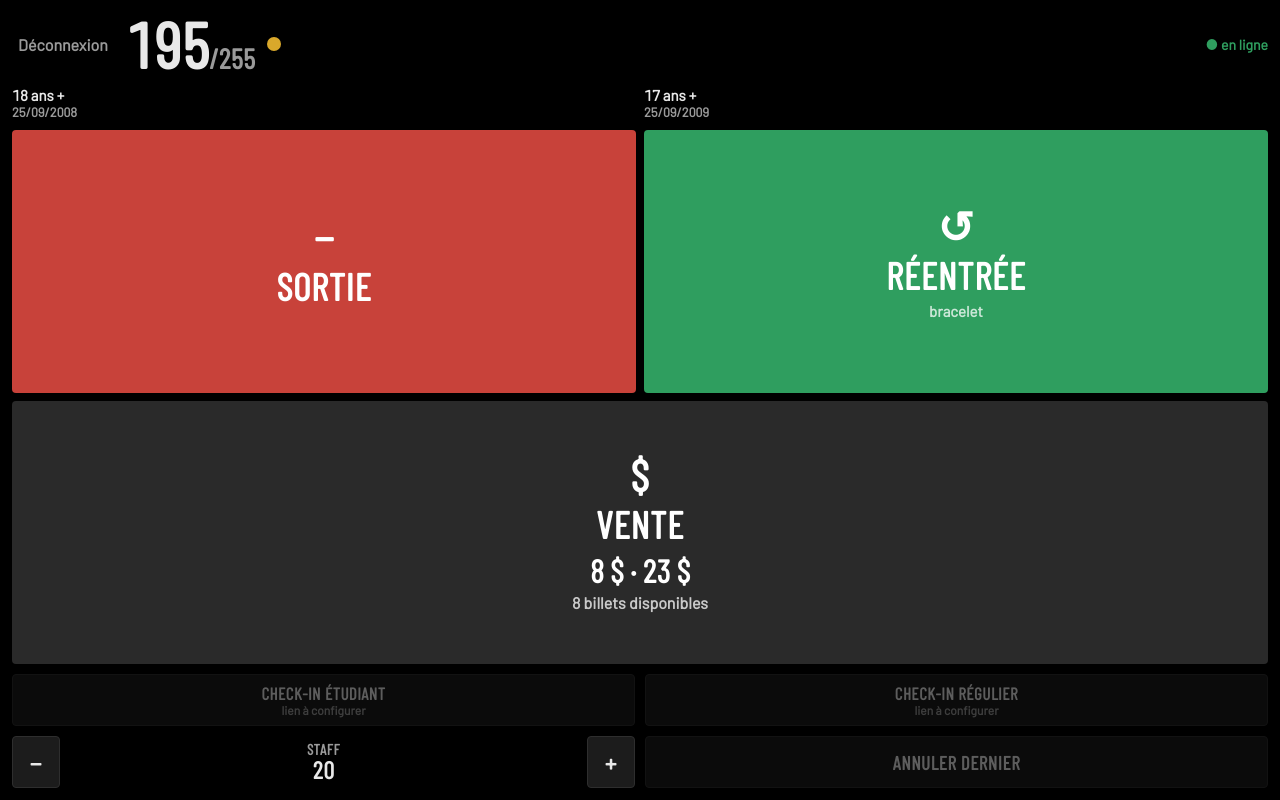
Test case: Écran Porte (scénario 23:00, 195 personnes, prix automatiques 8 $ / 23 $) › Bouncer : bouton Déconnexion avec confirmation (pas de lien Tableau)
The width and height of the screenshot is (1280, 800).
Click the button "Déconnexion".
click(63, 44)  # box [12,34,114,54]
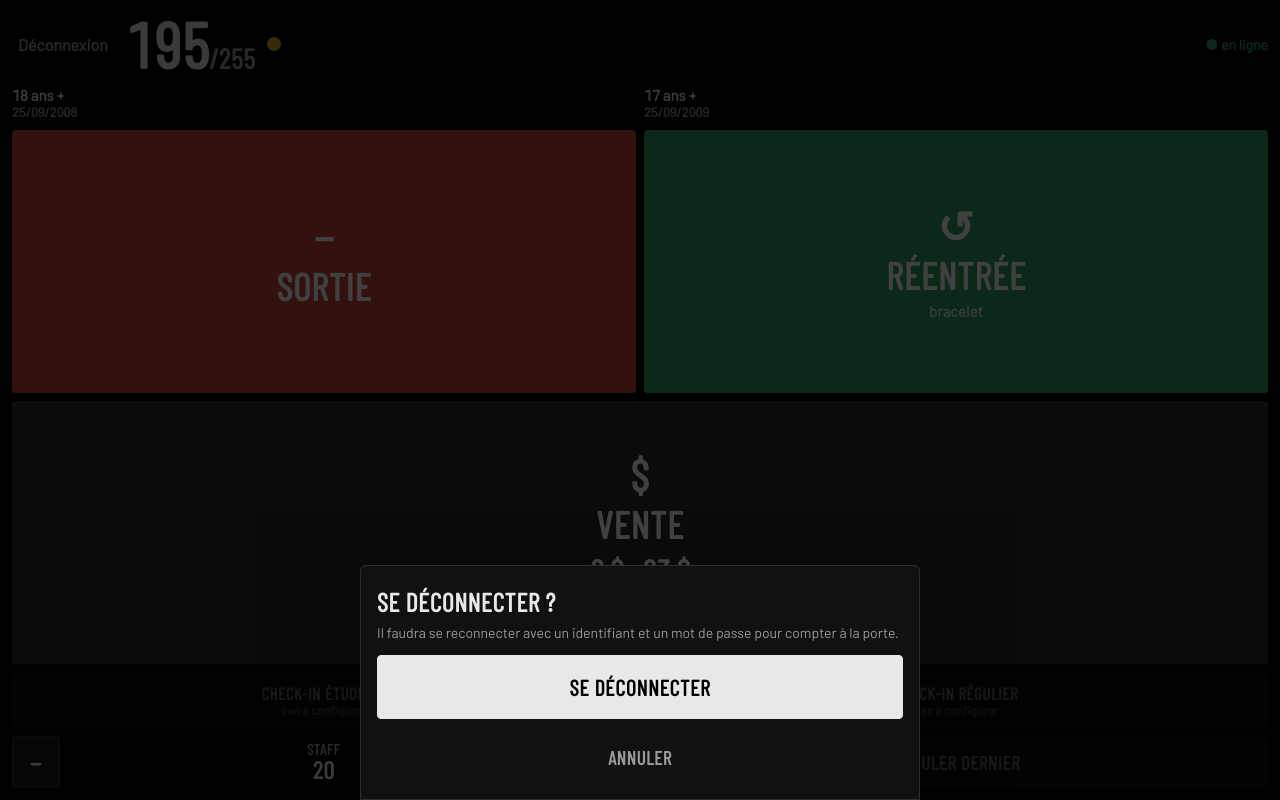
Result: the dialog "Se déconnecter ?" is shown at [360,565,920,799]
